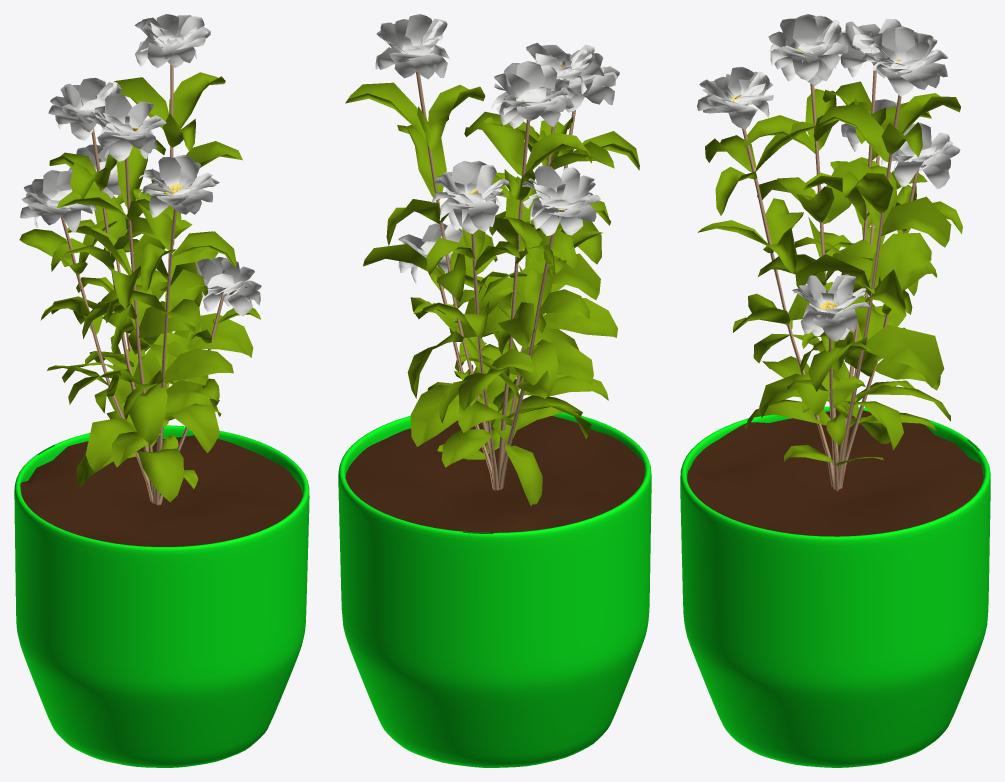
Rendered from melati.gltf.
3 views of the same model, side by side, from view 1: azimuth 30°, elevation 25°; view 2: azimuth 150°, elevation 25°; view 3: azimuth 270°, elevation 25° (orthographic). The views are drawn at different scales.
Visible parts, largest first — view 1: Pot, Jasmine; view 2: Pot, Jasmine; view 3: Pot, Jasmine.
Boxes of the visible parts, bbox=[...] form: Pot: bbox=[14, 425, 309, 767]; Jasmine: bbox=[19, 14, 261, 505]; Pot: bbox=[338, 412, 651, 767]; Jasmine: bbox=[345, 14, 639, 505]; Pot: bbox=[680, 406, 990, 767]; Jasmine: bbox=[697, 14, 962, 491].
Size of the model in its own units: 0.5085 by 1.29 by 0.5085.
